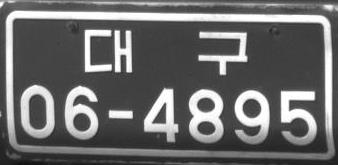0: (20, 83, 55, 139)
4: (143, 87, 178, 142)
5: (279, 89, 318, 145)
6: (63, 83, 99, 140)
8: (187, 87, 225, 143)
9: (233, 89, 270, 145)
대구_D: (83, 27, 249, 75)
